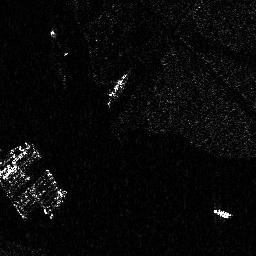ship: (107, 72, 129, 106), (212, 207, 232, 220)
